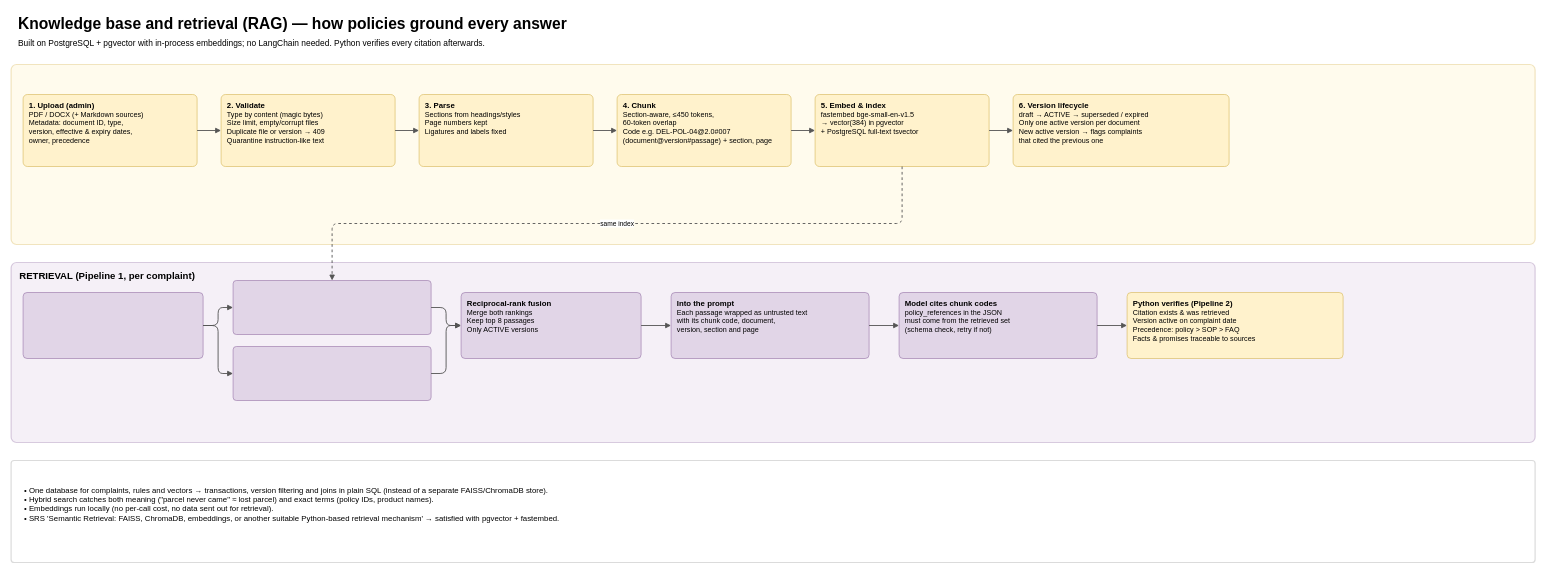
Some shapes in this 1546 by 573 pixel diagram are drawn without their labels. The shapes that lost their labels are listed below. From the top down, each one's box as (x1, y1, x2, y2) in pixels, then its label:
(10, 64, 1535, 245): INGESTION (administrator uploads a document; worker processes it)
(22, 292, 203, 358): Query Complaint title + description (+ category hints)
(232, 280, 431, 334): Semantic search Embed the query (same model) ORDER BY cosine distance (pgvector)
(232, 346, 431, 400): Keyword search websearch/OR tsquery ORDER BY ts_rank_cd (PostgreSQL full-text)
(10, 460, 1535, 563): WHY THIS DESIGN
